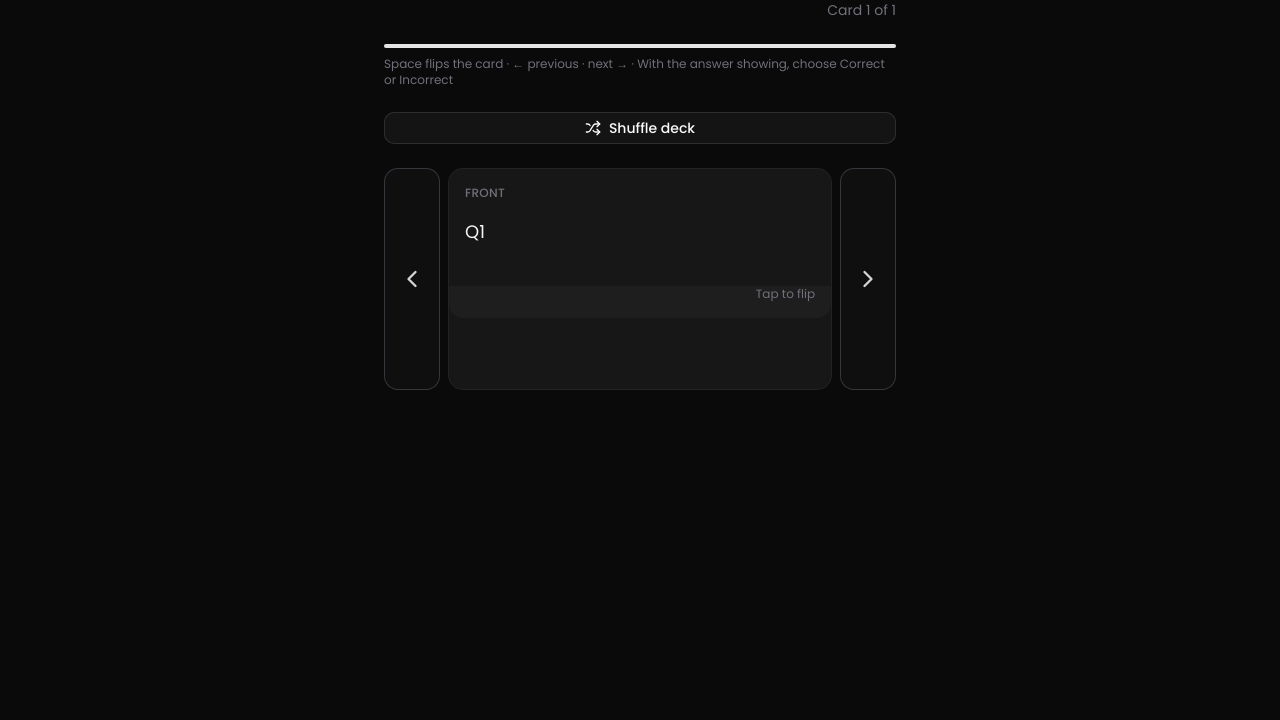
Test: StudySession › shows the completion dialog after grading the last card
Click the text "Q1" at (475, 232), box x1=465 y1=219 x2=485 y2=244
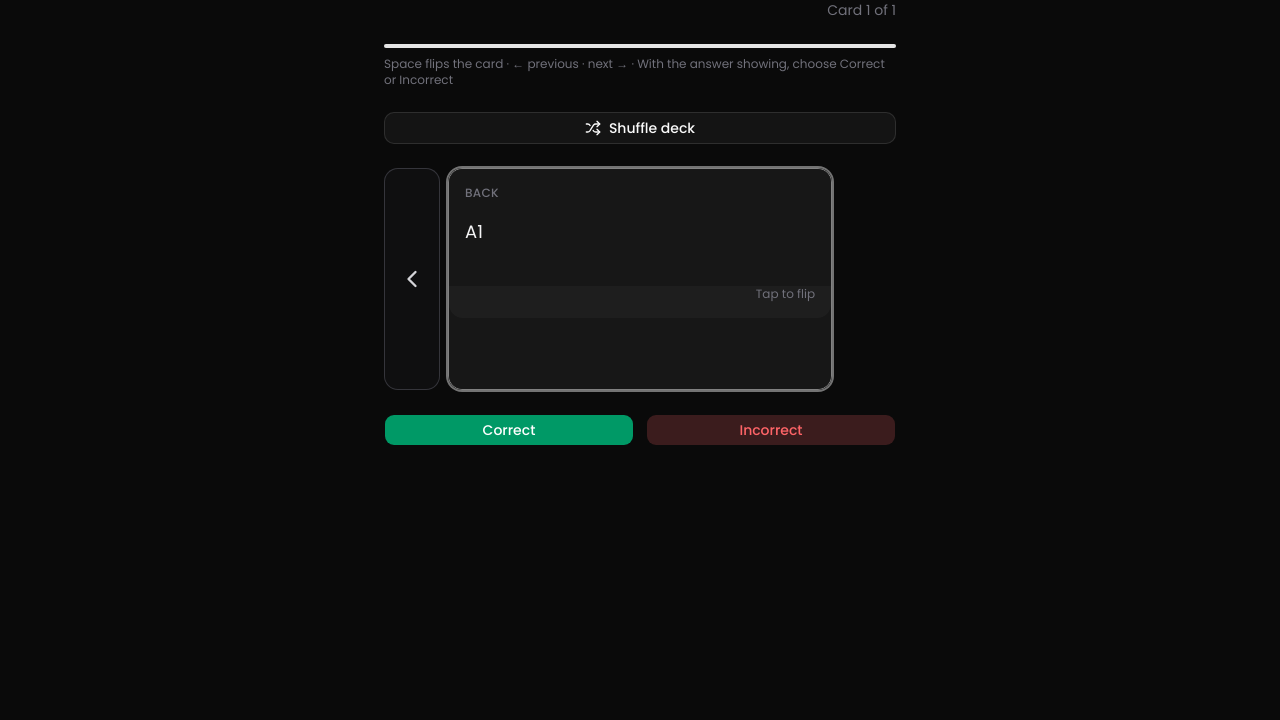
Click the button "Correct" at (509, 430), box x1=384 y1=414 x2=634 y2=446
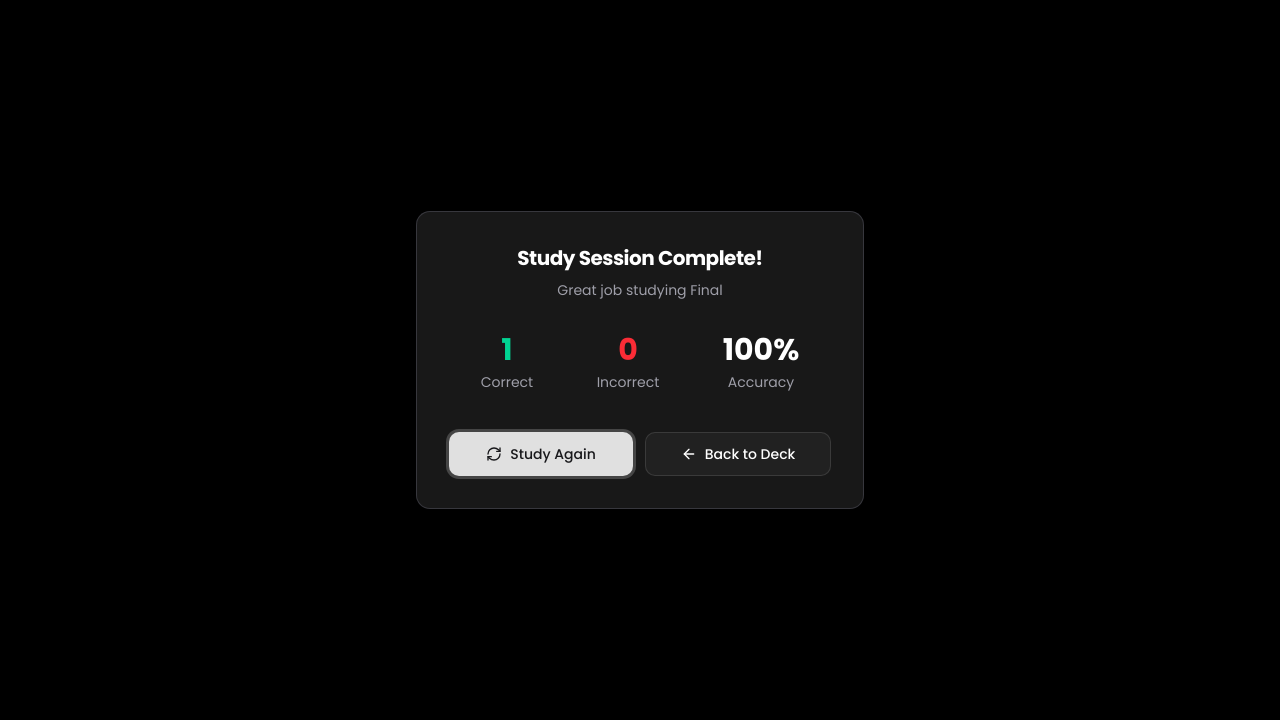
Now the heading "Study Session Complete!" is shown, box x1=517 y1=244 x2=763 y2=272
Now the dialog shows "Final", box x1=690 y1=280 x2=723 y2=300
